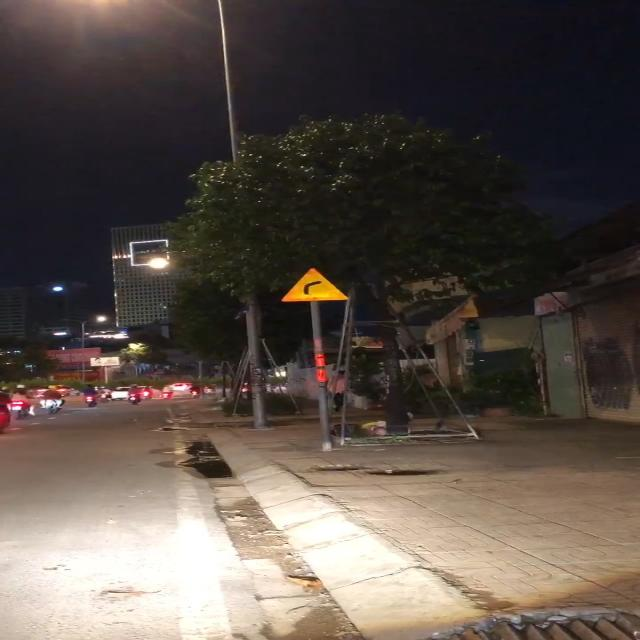Bien bao cho ngoat nguy hiem: (270, 262, 368, 311)
